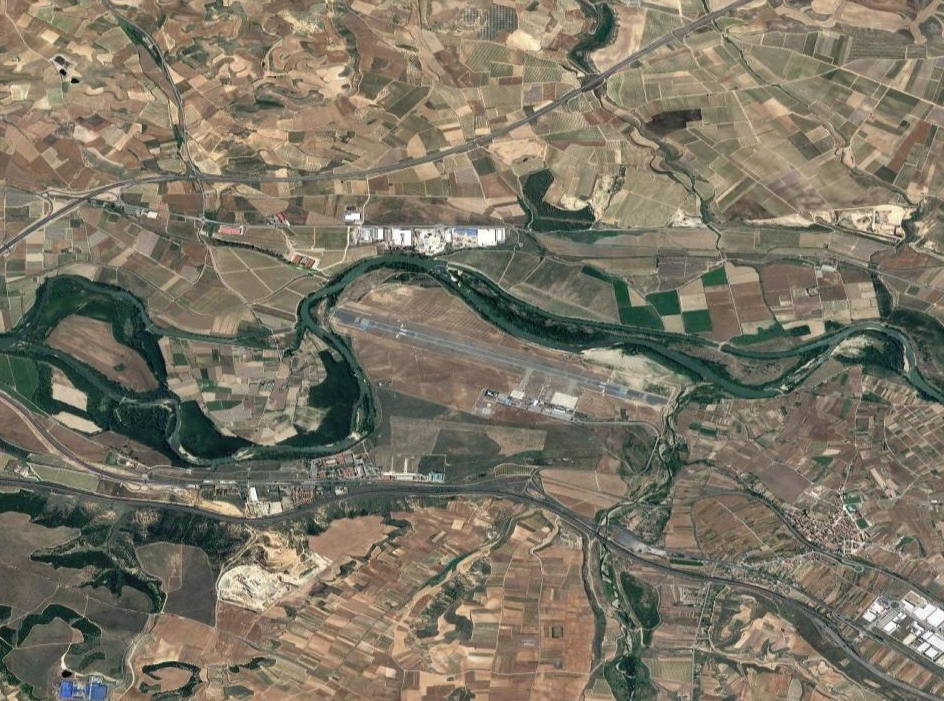airport: (332, 308, 671, 425)
industrial: (361, 221, 502, 252), (880, 592, 944, 658)
motorway: (1, 394, 91, 469), (397, 129, 498, 172), (478, 485, 576, 529), (497, 84, 582, 134), (583, 37, 668, 87), (574, 521, 655, 571), (344, 476, 480, 503), (241, 489, 343, 524), (115, 492, 233, 521), (1, 475, 118, 504), (1, 207, 68, 254), (69, 169, 149, 208), (818, 623, 877, 673), (751, 588, 822, 628), (670, 1, 750, 36), (656, 562, 749, 591), (149, 167, 272, 188), (273, 165, 396, 186)
